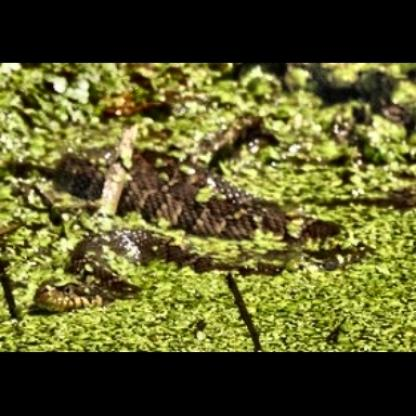Snake: (25, 130, 307, 318)
